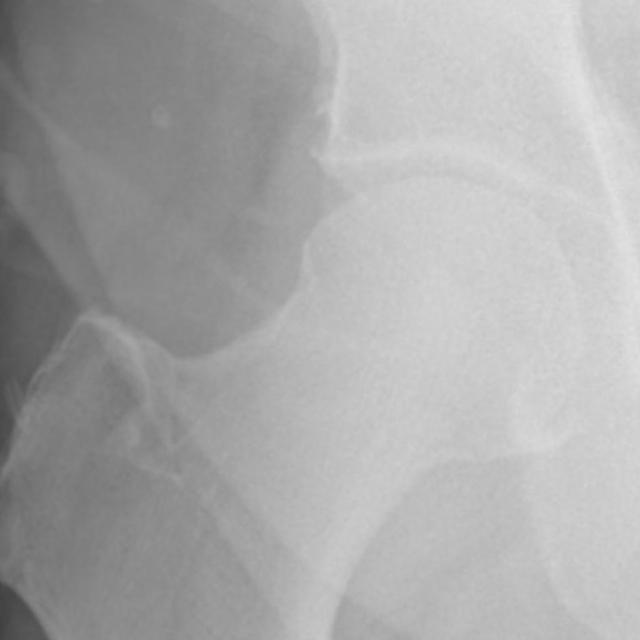Fitted_femural_head: (304, 174, 432, 304)
